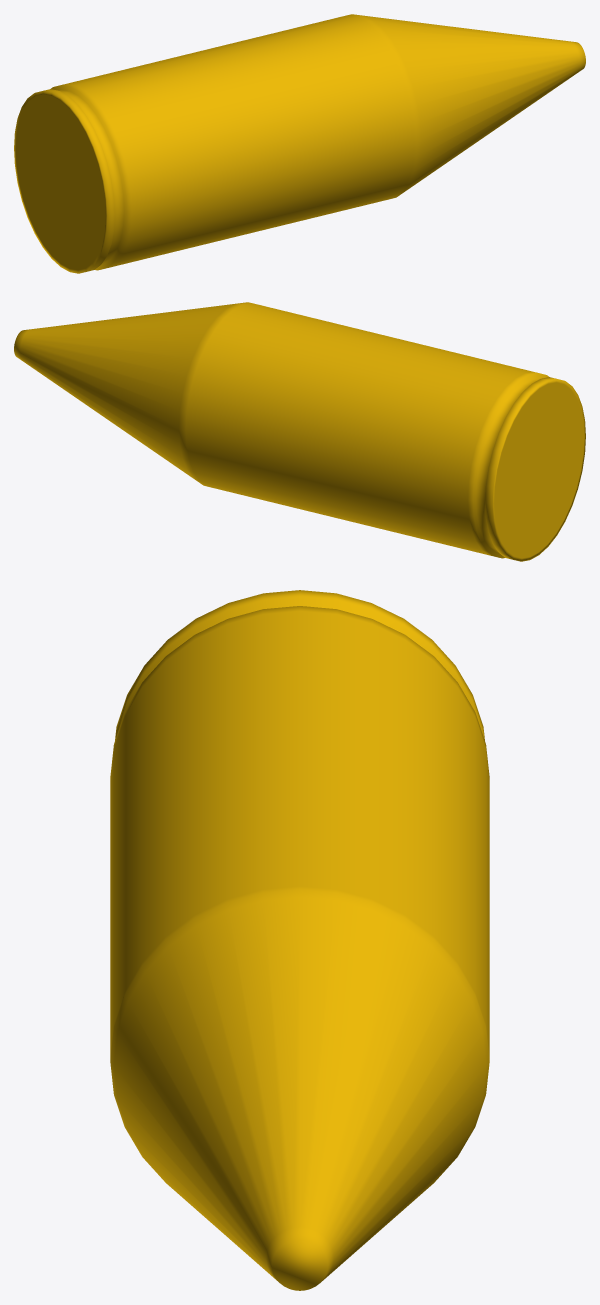
The model's file is Bullet.glb.
3 views of the same model, one above another, from view 1: azimuth 30°, elevation 25°; view 2: azimuth 150°, elevation 25°; view 3: azimuth 270°, elevation 25° (orthographic). The views are drawn at different scales.
Parts seen in each view (by area): view 1: Cylinder; view 2: Cylinder; view 3: Cylinder.
Part boxes in pixels (<box>): Cylinder: <box>14,14,585,273</box>; Cylinder: <box>14,302,585,561</box>; Cylinder: <box>110,590,489,1290</box>.
Size of the model in its own units: 0.688 by 0.2181 by 0.2181.
